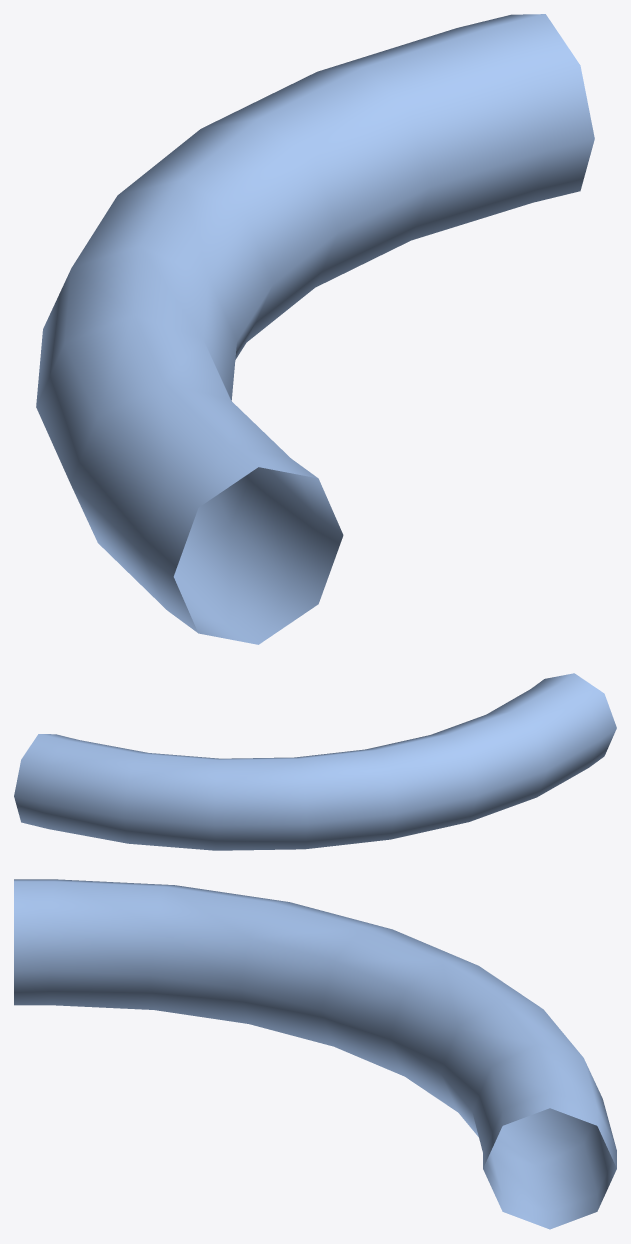
File: PipeSmall_Bent_04.fbx
3 renders of one model, top to bottom at view 1: azimuth 30°, elevation 25°; view 2: azimuth 150°, elevation 25°; view 3: azimuth 270°, elevation 25°, orthographic. The views are drawn at different scales.
Visible parts, largest first — view 1: PipeSmall_Bent_04.001; view 2: PipeSmall_Bent_04.001; view 3: PipeSmall_Bent_04.001.
Boxes of the visible parts, x1,y1,x2,y2 form: PipeSmall_Bent_04.001: (36,14,594,644); PipeSmall_Bent_04.001: (14,673,616,850); PipeSmall_Bent_04.001: (14,879,616,1229).
Bounding box in the file's own units: 0.45 × 0.1 × 0.45.
